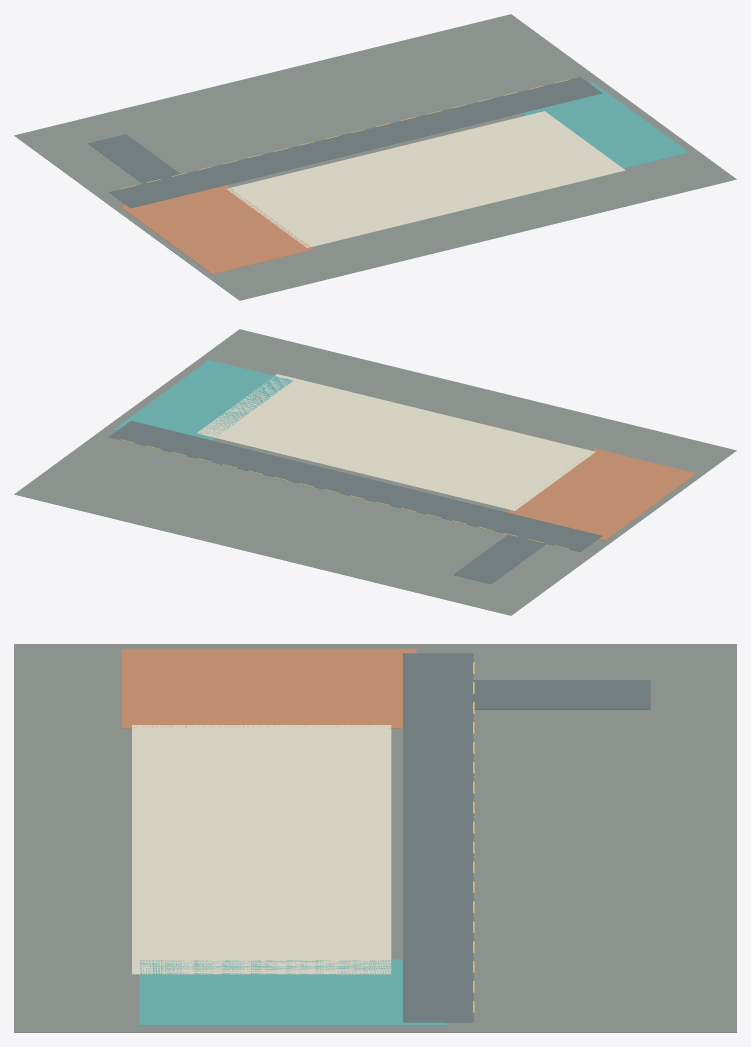
File: FactorySite.glb
3 views of the same model, one above another, from view 1: azimuth 30°, elevation 25°; view 2: azimuth 150°, elevation 25°; view 3: azimuth 270°, elevation 25° (orthographic). The views are drawn at different scales.
Visible parts, largest first — view 1: FactorySite_ReclaimedConcrete; view 2: FactorySite_ReclaimedConcrete; view 3: FactorySite_ReclaimedConcrete.
Boxes of the visible parts, x1,y1,x2,y2 form: FactorySite_ReclaimedConcrete: (14,14,736,300); FactorySite_ReclaimedConcrete: (14,329,736,615); FactorySite_ReclaimedConcrete: (14,644,736,1032).
Bounding box in the file's own units: 234 × 0.34 × 184.
